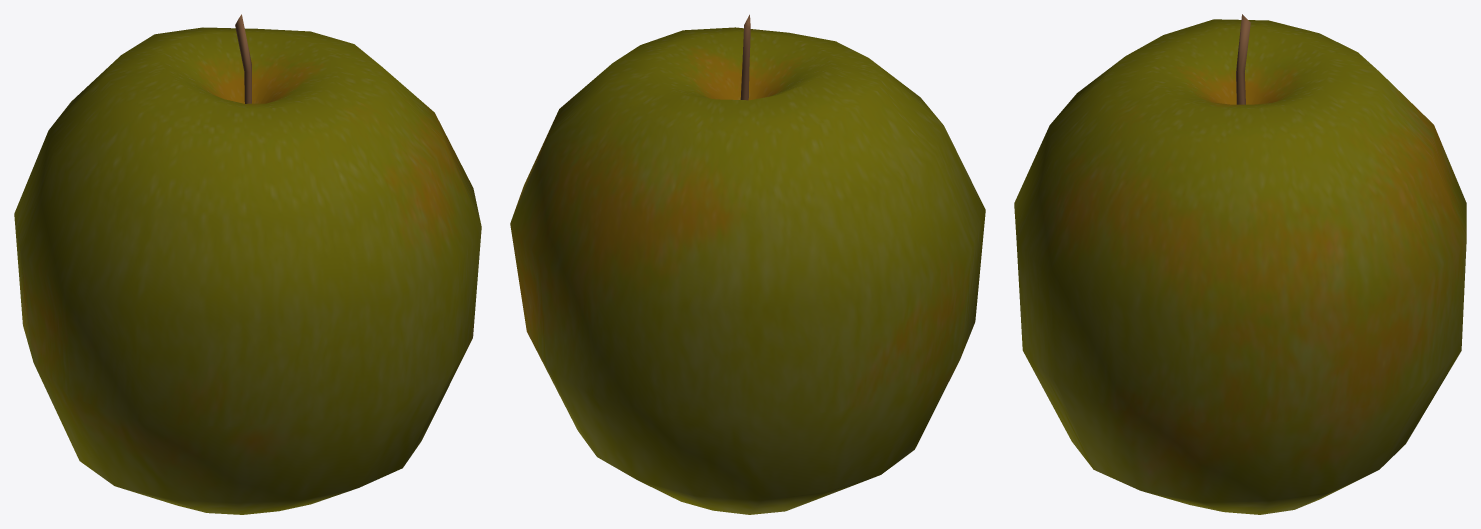
The model's file is Apple_8_apple_a8.obj.
The picture shows the model from 3 angles, left to right: view 1: azimuth 30°, elevation 25°; view 2: azimuth 150°, elevation 25°; view 3: azimuth 270°, elevation 25°; orthographic projection.
Bounding box in the file's own units: 0.1 × 0.1098 × 0.0971.
